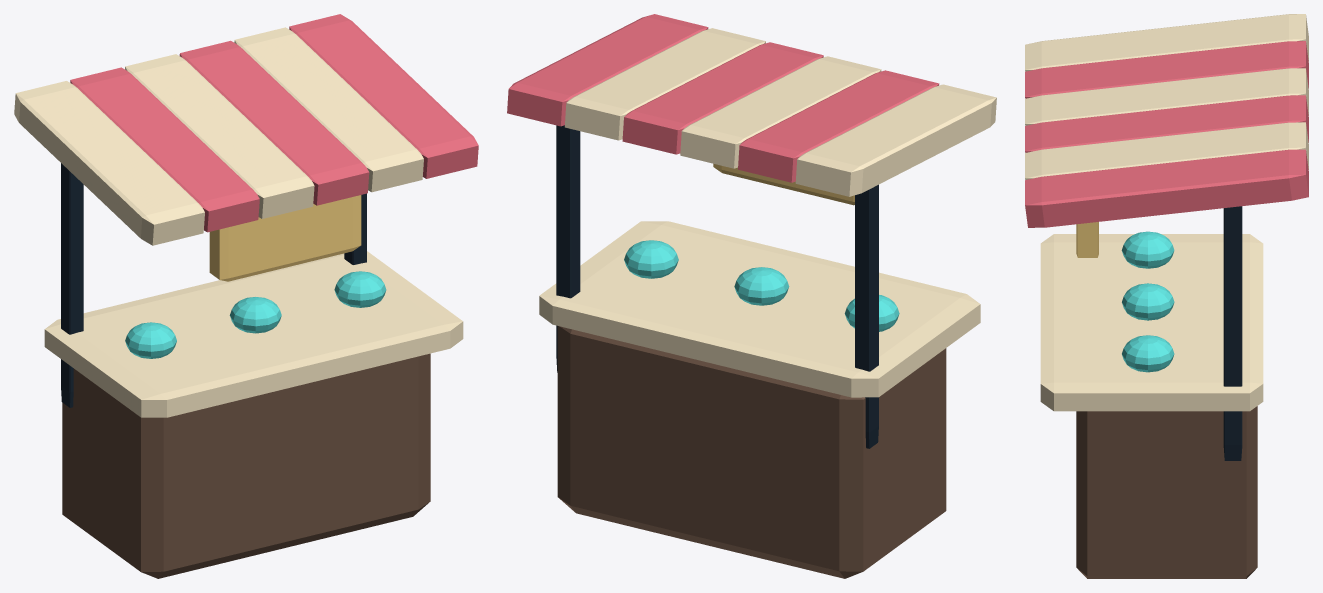
File: stall.glb
3 renders of one model, left to right at view 1: azimuth 30°, elevation 25°; view 2: azimuth 150°, elevation 25°; view 3: azimuth 270°, elevation 25°, orthographic. The views are drawn at different scales.
Visible parts, largest first — view 1: awning.006; view 2: awning.006; view 3: awning.006.
Boxes of the visible parts, x1=… form: awning.006: x1=14, y1=14, x2=478, y2=578; awning.006: x1=507, y1=14, x2=996, y2=578; awning.006: x1=1025, y1=14, x2=1308, y2=578.
Size of the model in its own units: 2.06 by 2.47 by 1.51.
